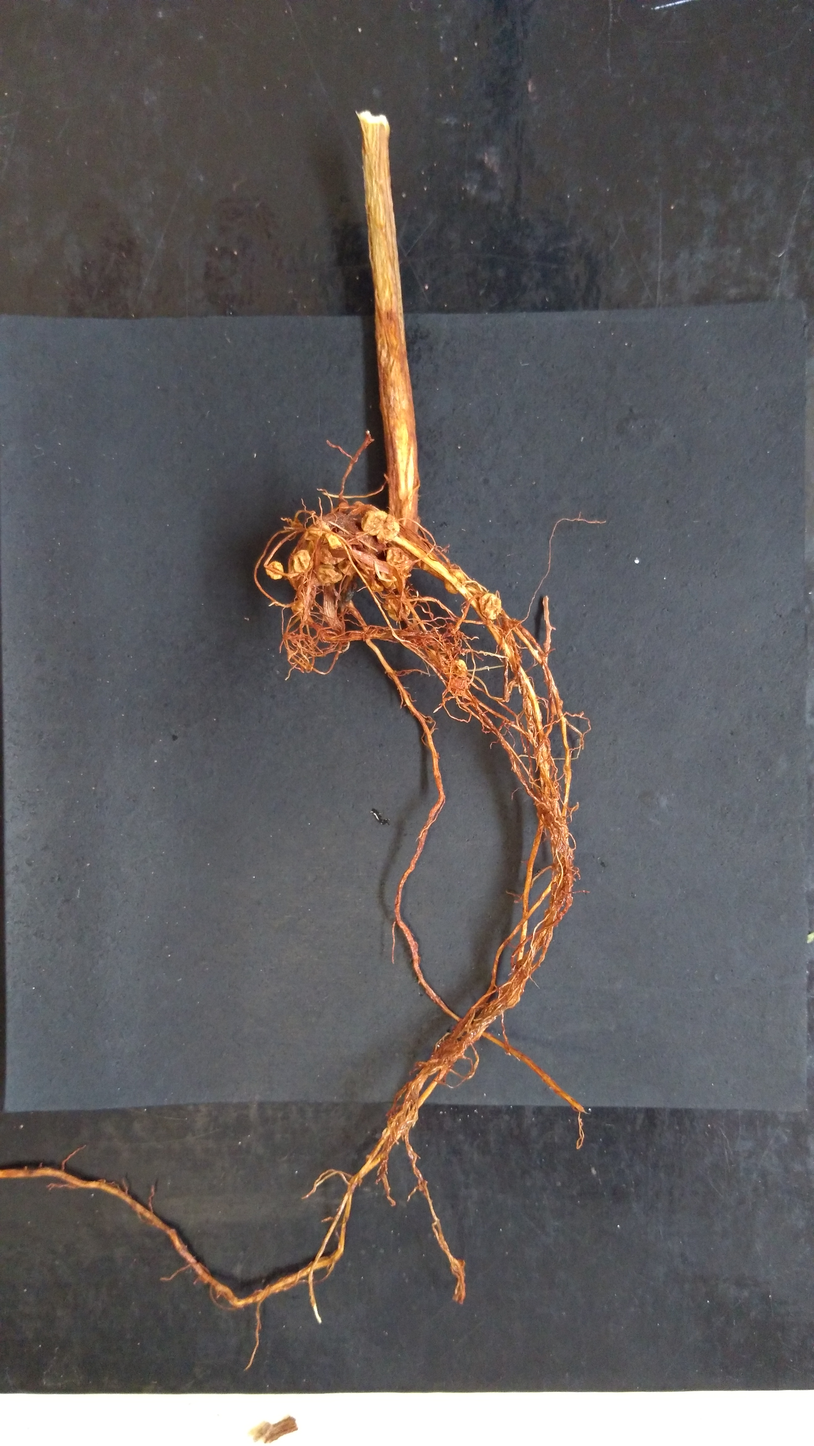nodule: (358, 509, 401, 545), (442, 566, 471, 597), (384, 592, 413, 622), (385, 543, 414, 571), (477, 592, 503, 623), (367, 569, 397, 594), (316, 563, 347, 584), (291, 548, 312, 574), (265, 560, 285, 581), (337, 558, 358, 578), (290, 600, 313, 617), (323, 533, 344, 551), (453, 658, 468, 679)
